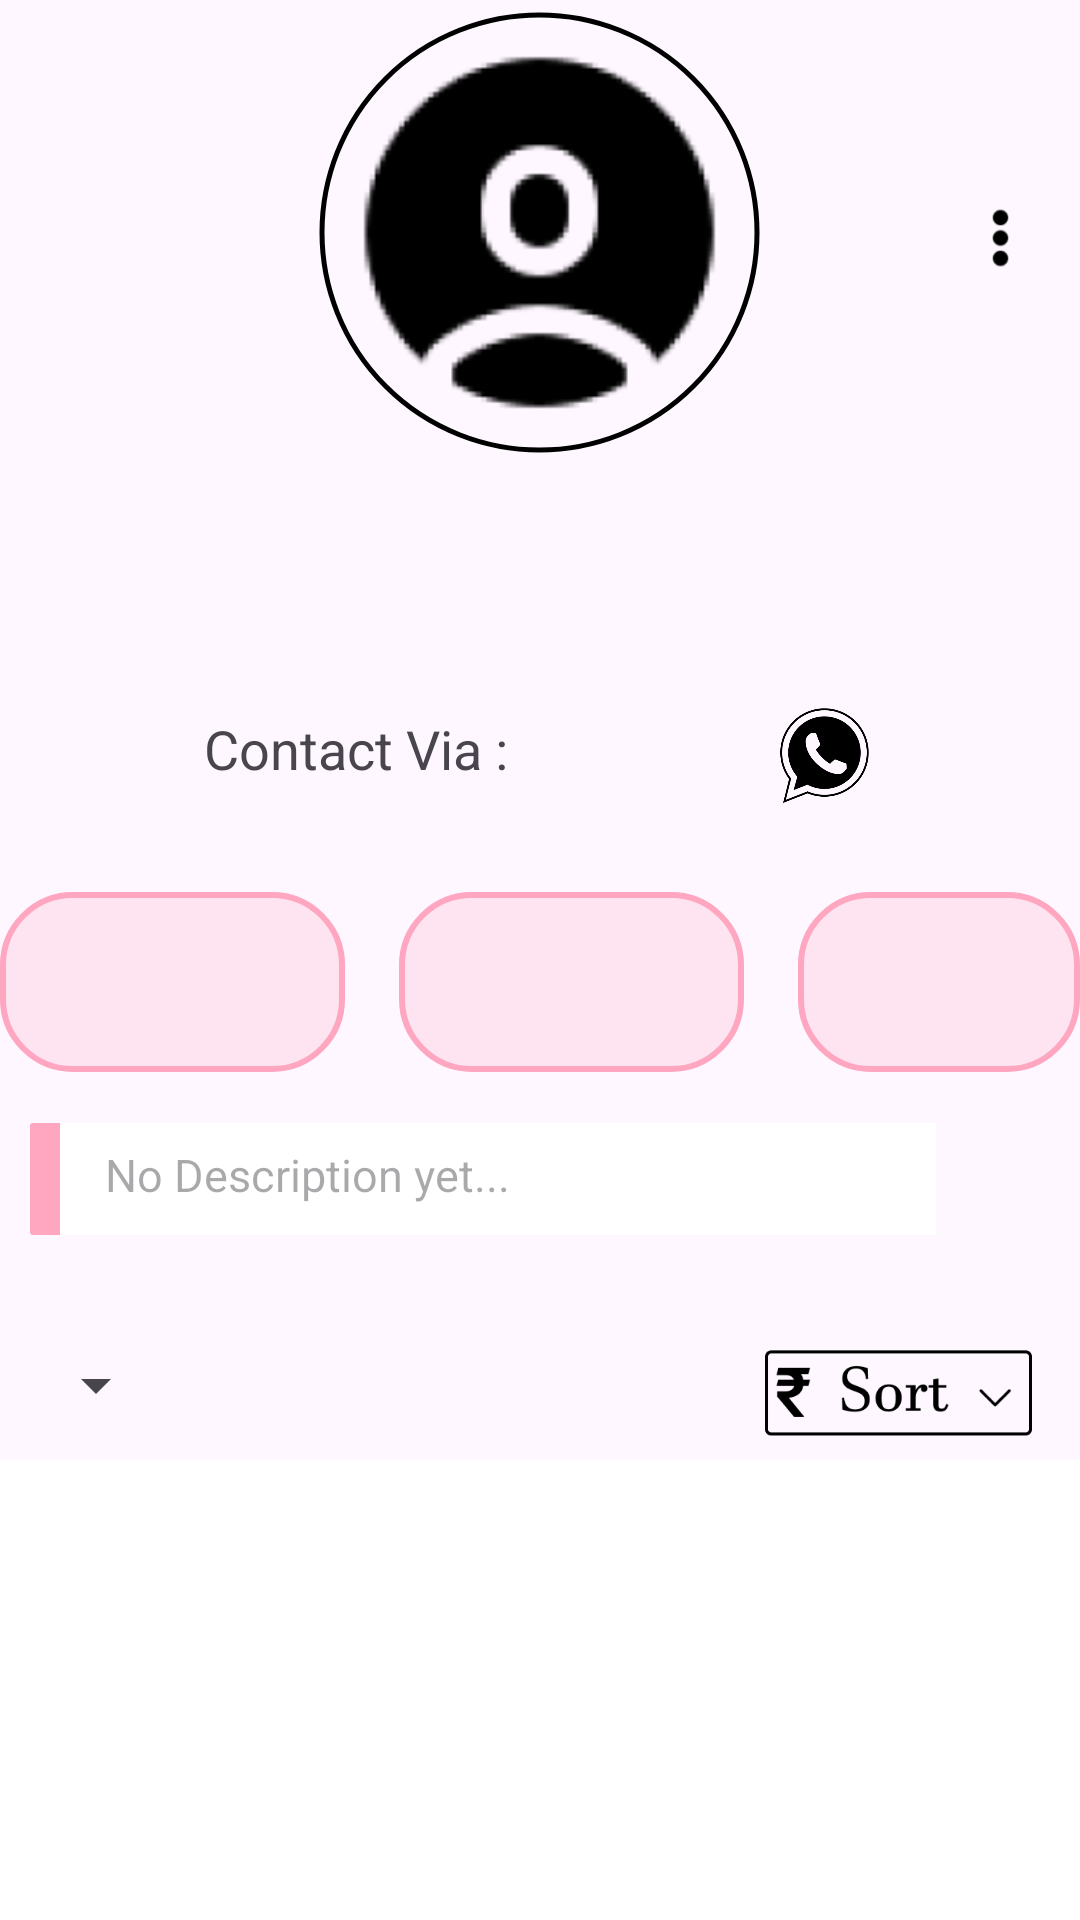

Named icons in this screenshot (1080px×1920px) and their centers, point (x, y):
verticalmenu: point (1000, 238)
